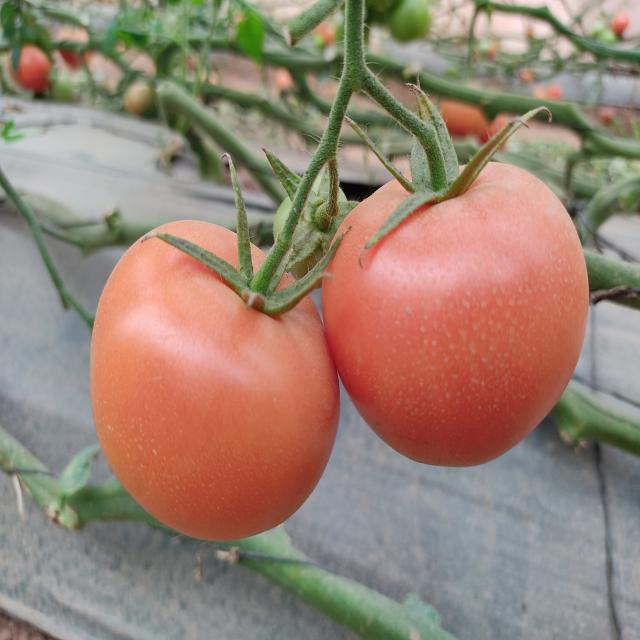Ripe Tomato: (326, 158, 588, 471), (88, 222, 342, 541)
